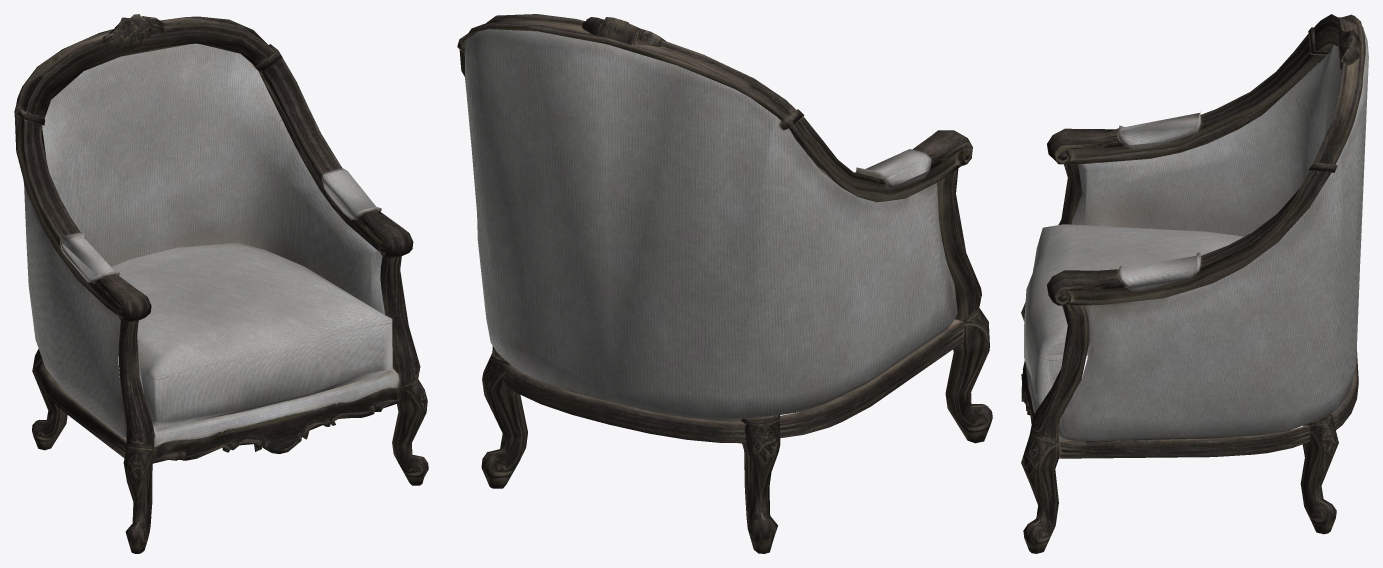
Rendered from ph-armchair-01-lite.glb.
3 views of the same model, side by side, from view 1: azimuth 30°, elevation 25°; view 2: azimuth 150°, elevation 25°; view 3: azimuth 270°, elevation 25° (orthographic). The views are drawn at different scales.
Visible parts, largest first — view 1: ArmChair_01; view 2: ArmChair_01; view 3: ArmChair_01.
Boxes of the visible parts, x1=… form: ArmChair_01: x1=14, y1=14, x2=428, y2=553; ArmChair_01: x1=457, y1=14, x2=992, y2=553; ArmChair_01: x1=1021, y1=14, x2=1368, y2=553.
Size of the model in its own units: 0.8453 by 1.06 by 0.7619.
Materials: 1 (1 with a texture image).
